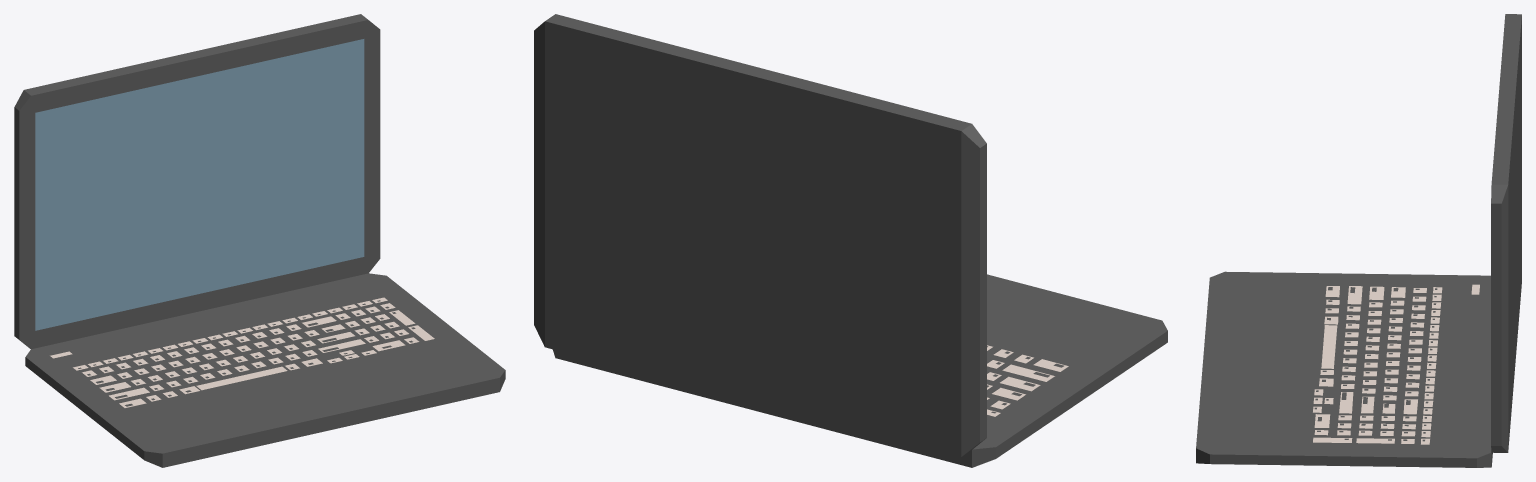
Rendered from Computer_1.fbx.
The picture shows the model from 3 angles, left to right: view 1: azimuth 30°, elevation 25°; view 2: azimuth 150°, elevation 25°; view 3: azimuth 270°, elevation 25°; orthographic projection. The views are drawn at different scales.
Visible parts, largest first — view 1: Computer_1; view 2: Computer_1; view 3: Computer_1.
Boxes of the visible parts, bbox=[...] form: Computer_1: bbox=[14, 14, 505, 467]; Computer_1: bbox=[534, 14, 1167, 467]; Computer_1: bbox=[1196, 14, 1521, 467].
Size of the model in its own units: 61.82 by 45.57 by 43.66.
